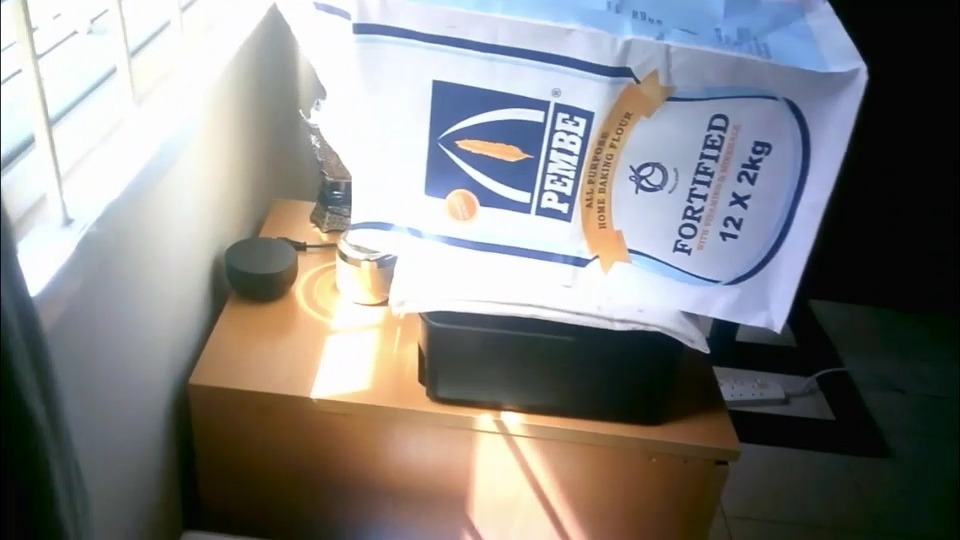wheat_flour_blue_label: (323, 2, 869, 331)
